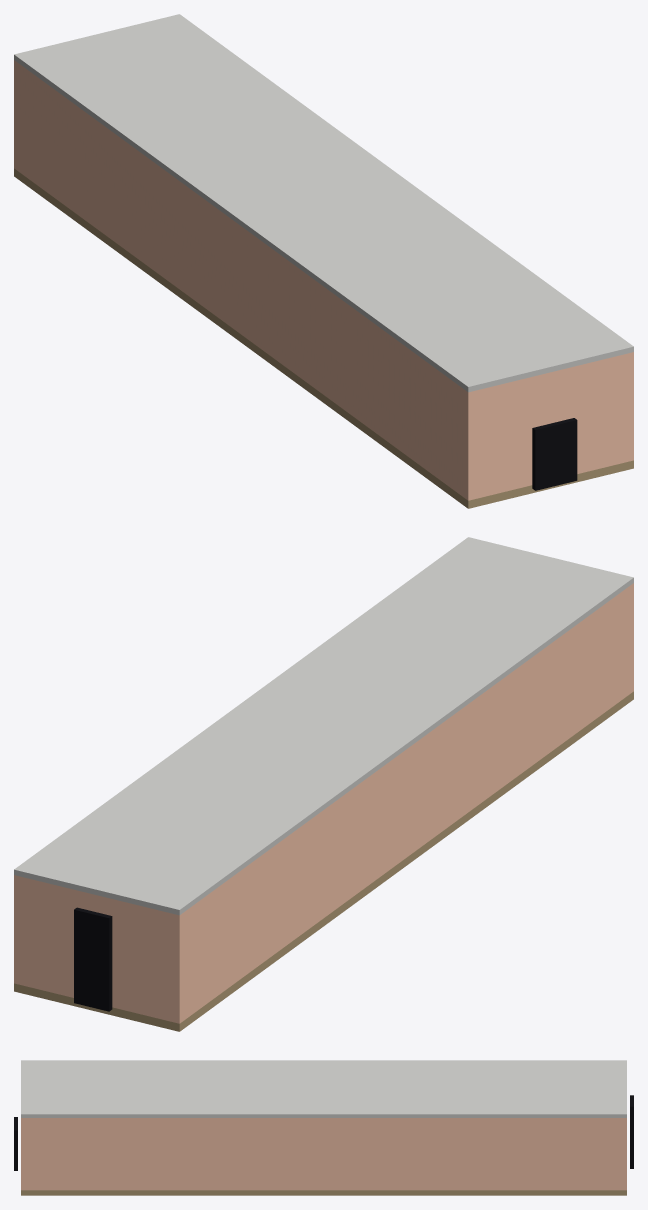
File: rdwe_tilted_hall.glb
3 renders of one model, top to bottom at view 1: azimuth 30°, elevation 25°; view 2: azimuth 150°, elevation 25°; view 3: azimuth 270°, elevation 25°, orthographic. The views are drawn at different scales.
Parts seen in each view (by area): view 1: Room_Ceiling, Room_Wall_W_1, Room_Wall_S_1, Room_Wall_S_3, Room_Floor, Beyond_stairs, Room_Wall_S_2; view 2: Room_Ceiling, Room_Wall_W_1, Room_Wall_N_1, Room_Wall_N_4, Room_Floor, Beyond_end, Beyond_end_Foot; view 3: Room_Wall_E_1, Room_Ceiling, Room_Floor, Room_Wall_N_4, Room_Wall_S_3, Beyond_stairs.
Boxes of the visible parts, x1=… form: Room_Ceiling: x1=14, y1=14, x2=633, y2=392; Room_Wall_W_1: x1=17, y1=62, x2=465, y2=498; Room_Wall_S_1: x1=465, y1=376, x2=535, y2=500; Room_Wall_S_3: x1=566, y1=352, x2=633, y2=473; Room_Floor: x1=14, y1=168, x2=633, y2=508; Beyond_stairs: x1=532, y1=418, x2=577, y2=490; Room_Wall_S_2: x1=536, y1=368, x2=566, y2=426; Room_Ceiling: x1=14, y1=537, x2=633, y2=915; Room_Wall_W_1: x1=182, y1=585, x2=630, y2=1021; Room_Wall_N_1: x1=108, y1=898, x2=182, y2=1023; Room_Wall_N_4: x1=14, y1=875, x2=85, y2=997; Room_Floor: x1=14, y1=691, x2=633, y2=1031; Beyond_end: x1=74, y1=907, x2=112, y2=972; Beyond_end_Foot: x1=74, y1=964, x2=112, y2=1011; Room_Wall_E_1: x1=25, y1=1118, x2=622, y2=1190; Room_Ceiling: x1=21, y1=1060, x2=626, y2=1117; Room_Floor: x1=21, y1=1190, x2=626, y2=1195; Room_Wall_N_4: x1=623, y1=1118, x2=626, y2=1190; Room_Wall_S_3: x1=21, y1=1118, x2=24, y2=1190; Beyond_stairs: x1=14, y1=1117, x2=17, y2=1170.
Size of the model in its own units: 6.4 by 4.5 by 31.1.
